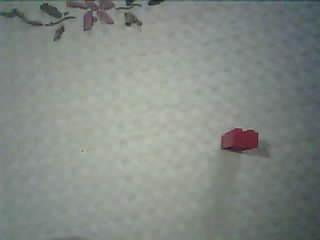lego: (220, 128, 259, 150)
